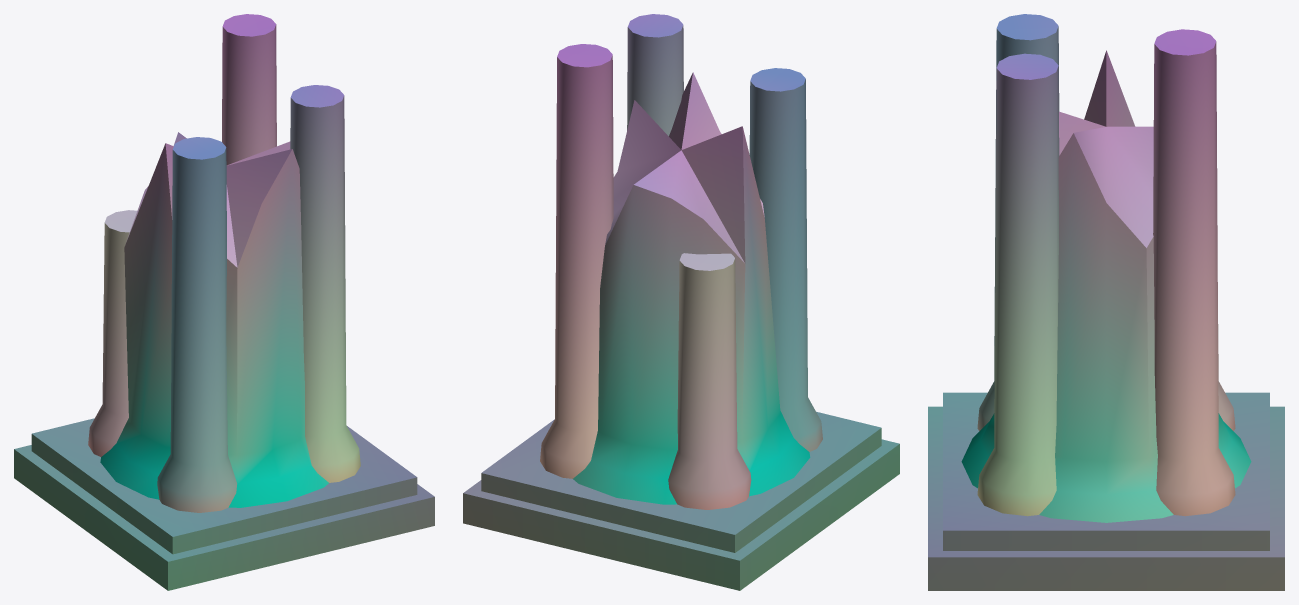
The model's file is column_broken.glb.
3 renders of one model, left to right at view 1: azimuth 30°, elevation 25°; view 2: azimuth 150°, elevation 25°; view 3: azimuth 270°, elevation 25°, orthographic. The views are drawn at different scales.
Visible parts, largest first — view 1: column_broken, pier_plinth_brk, stub_col.002, stub_col.003, stub_col, stub_col.001; view 2: column_broken, pier_plinth_brk, stub_col, stub_col.002, stub_col.001, stub_col.003; view 3: column_broken, pier_plinth_brk, stub_col, stub_col.003, stub_col.002, stub_col.001.
Part boxes in pixels (x1=…): column_broken: x1=100, y1=132, x2=328, y2=507; pier_plinth_brk: x1=14, y1=418, x2=434, y2=590; stub_col.002: x1=157, y1=137, x2=237, y2=512; stub_col.003: x1=290, y1=85, x2=360, y2=482; stub_col: x1=222, y1=14, x2=276, y2=165; stub_col.001: x1=88, y1=210, x2=137, y2=456; column_broken: x1=573, y1=72, x2=810, y2=504; pier_plinth_brk: x1=463, y1=411, x2=899, y2=590; stub_col: x1=540, y1=44, x2=613, y2=478; stub_col.002: x1=749, y1=68, x2=822, y2=451; stub_col.001: x1=668, y1=253, x2=751, y2=509; stub_col.003: x1=627, y1=14, x2=683, y2=136; column_broken: x1=961, y1=50, x2=1251, y2=522; pier_plinth_brk: x1=928, y1=392, x2=1284, y2=590; stub_col: x1=1153, y1=29, x2=1235, y2=516; stub_col.003: x1=977, y1=53, x2=1059, y2=516; stub_col.002: x1=977, y1=14, x2=1059, y2=430; stub_col.001: x1=1218, y1=324, x2=1235, y2=430.
Bounding box in the file's own units: 0.96 × 1.5 × 0.96.
